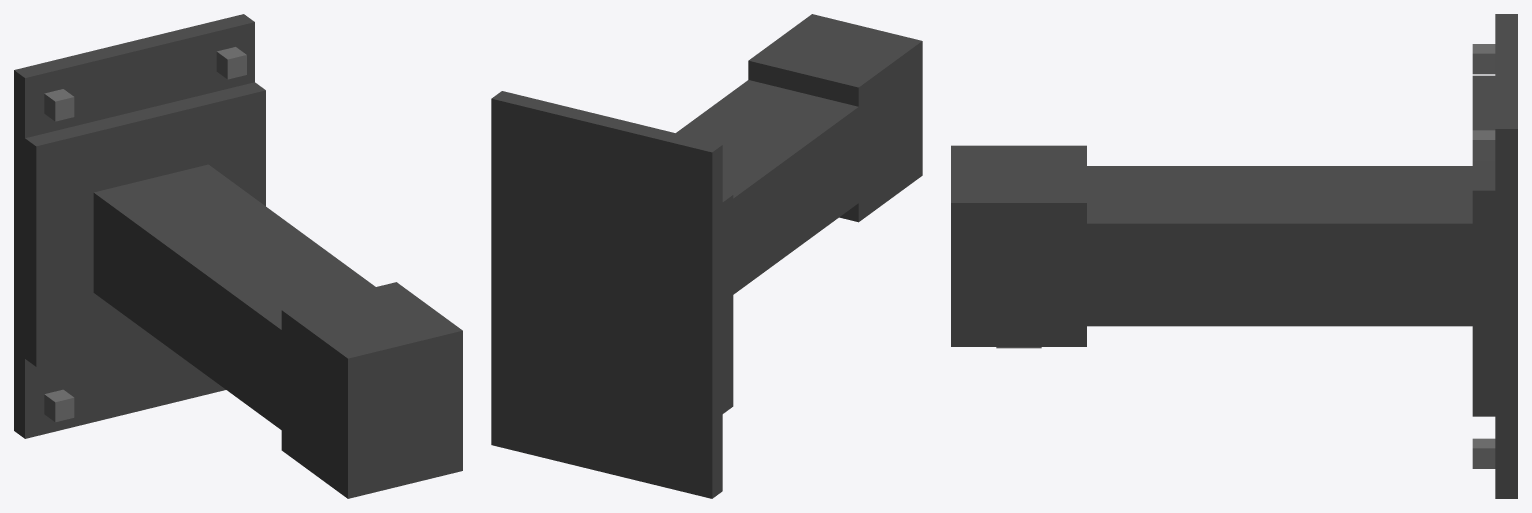
The model's file is camera_base.obj.
3 views of the same model, side by side, from view 1: azimuth 30°, elevation 25°; view 2: azimuth 150°, elevation 25°; view 3: azimuth 270°, elevation 25° (orthographic). The views are drawn at different scales.
Bounding box in the file's own units: 1.2 × 1.8 × 2.5.
Materials: 1 (1 with a texture image).
